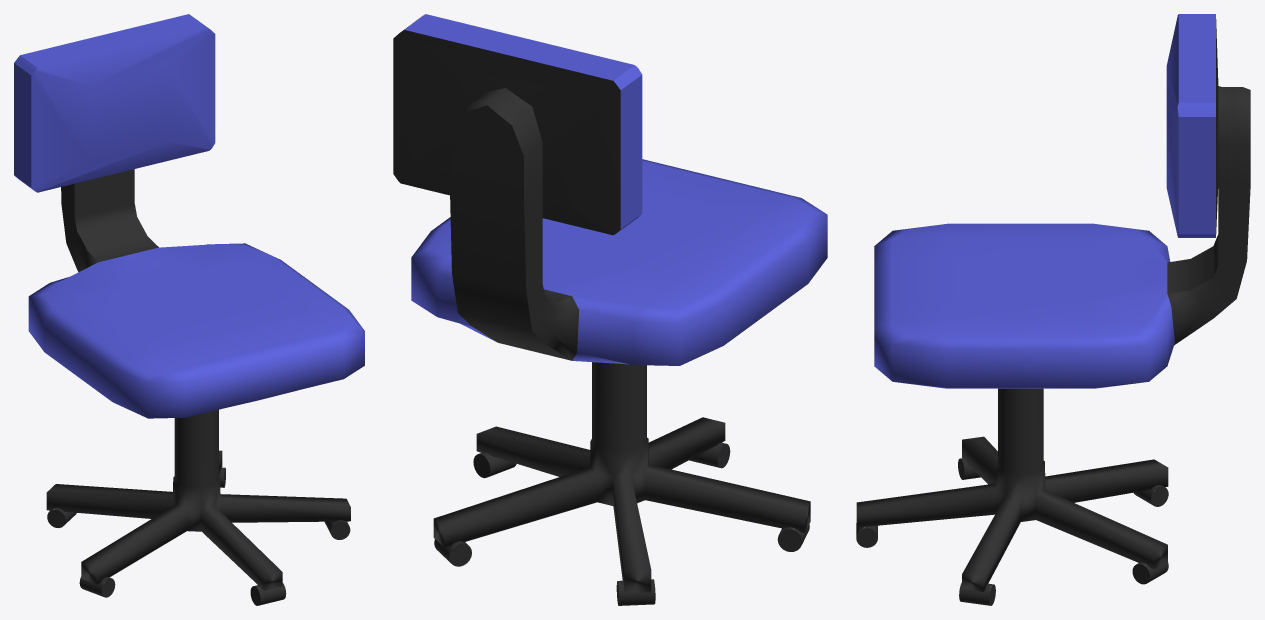
File: Chair.fbx
3 renders of one model, left to right at view 1: azimuth 30°, elevation 25°; view 2: azimuth 150°, elevation 25°; view 3: azimuth 270°, elevation 25°, orthographic. The views are drawn at different scales.
Parts seen in each view (by area): view 1: _left1; view 2: _left1; view 3: _left1.
Boxes of the visible parts, x1,y1,x2,y2 form: _left1: (14, 14, 364, 605); _left1: (393, 14, 827, 605); _left1: (856, 14, 1250, 605).
Bounding box in the file's own units: 452 × 731 × 542.
2 materials, 2 textured.
